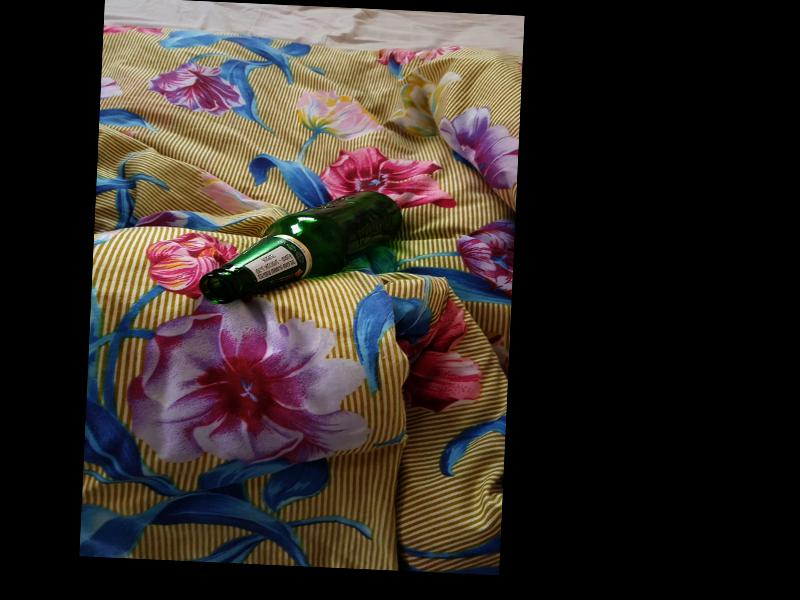Beer: (199, 184, 400, 313)
